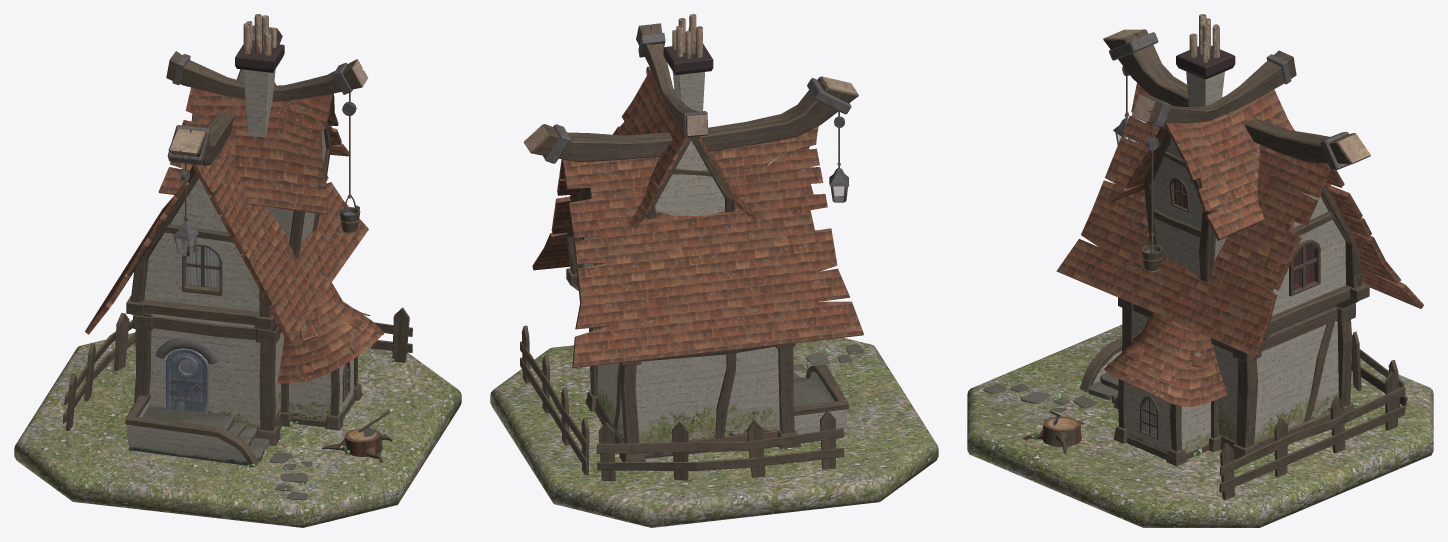
3 renders of one model, left to right at view 1: azimuth 30°, elevation 25°; view 2: azimuth 150°, elevation 25°; view 3: azimuth 270°, elevation 25°, orthographic. The views are drawn at different scales.
Visible parts, largest first — view 1: Cube.000, rooof3.000, base.001, balki.001, balki1.001, FENSE.001, truba.000, BASE2.002, DOOR.001, STAIRS.001, BASE2.001, WINDOWS.001 (+10 smaller); view 2: rooof3.000, Cube.000, base.001, FENSE.001, balki1.001, balki.001, TexturesCom_DecalBottom0023_1_masked_S.002_TexturesCom_Decal, truba.000, balki1.002, BASE2.001, TRUBA2.001, BASE2.002 (+3 smaller); view 3: rooof3.000, Cube.000, base.001, balki.001, balki1.001, FENSE.001, truba.000, WINDOWS.001, balki1.002, base.002, PEN.001, TexturesCom_DecalBottom0023_1_masked_S.001_TexturesCom_Decal (+5 smaller).
Part boxes in pixels (x1,y1,x2,y2): Cube.000: (14, 333, 461, 527); rooof3.000: (85, 82, 384, 383); base.001: (144, 130, 354, 430); balki.001: (126, 113, 362, 445); balki1.001: (166, 25, 367, 165); FENSE.001: (62, 307, 412, 430); truba.000: (235, 41, 284, 137); BASE2.002: (127, 401, 246, 461); DOOR.001: (166, 348, 208, 413); STAIRS.001: (142, 406, 269, 461); BASE2.001: (125, 393, 258, 466); WINDOWS.001: (182, 244, 350, 401); rooof3.000: (532, 69, 863, 368); Cube.000: (490, 337, 938, 527); base.001: (577, 140, 788, 443); FENSE.001: (520, 325, 844, 481); balki1.001: (524, 23, 858, 161); balki.001: (566, 136, 801, 461); TexturesCom_DecalBottom0023_1_masked_S.002_TexturesCom_Decal: (638, 402, 779, 442); truba.000: (663, 44, 713, 111); balki1.002: (543, 33, 851, 163); BASE2.001: (794, 364, 848, 415); TRUBA2.001: (672, 14, 702, 58); BASE2.002: (794, 372, 846, 434); rooof3.000: (1056, 83, 1423, 406); Cube.000: (967, 325, 1433, 527); base.001: (1125, 127, 1350, 459); balki.001: (1113, 122, 1369, 466); balki1.001: (1103, 29, 1370, 164); FENSE.001: (1219, 331, 1407, 499); truba.000: (1176, 45, 1235, 107); WINDOWS.001: (1140, 177, 1348, 439); balki1.002: (1109, 32, 1350, 170); base.002: (1143, 180, 1314, 436); PEN.001: (1022, 416, 1085, 453); TexturesCom_DecalBottom0023_1_masked_S.001_TexturesCom_Decal: (1254, 392, 1338, 442).
Bounding box in the file's own units: 1669 × 1696 × 1676.
22 materials, 17 textured.
